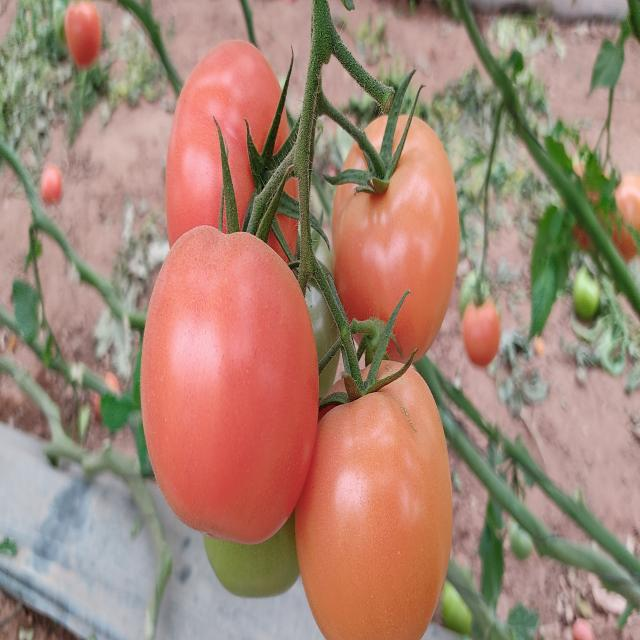Ripe Tomato: (135, 222, 323, 540), (293, 345, 456, 636), (327, 107, 465, 384), (158, 36, 304, 263), (465, 288, 498, 373), (64, 1, 102, 58)
Unripe Tomato: (570, 263, 602, 327)
